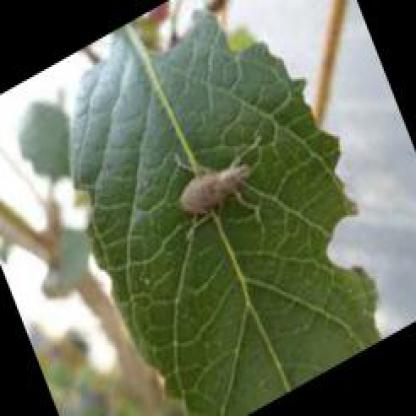ash weevil: (183, 141, 260, 211)
